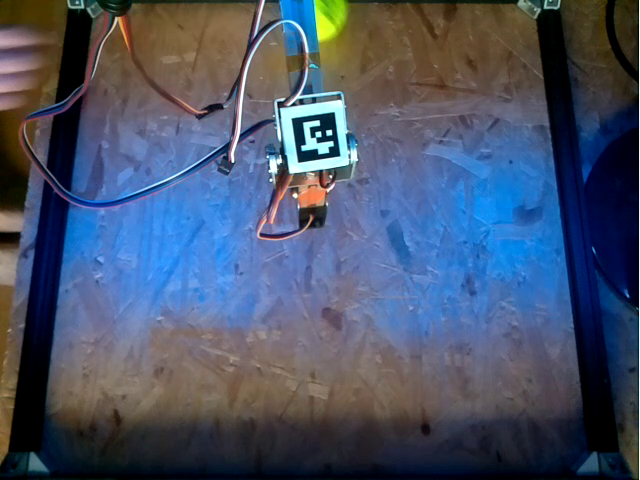tennis_ball: (316, 1, 347, 41)
